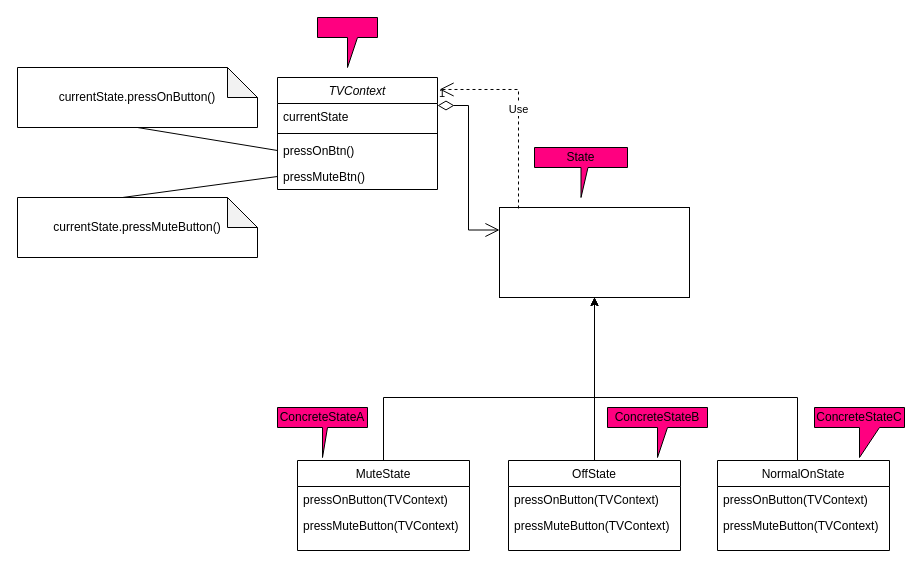
This 922x568 diagram has some shape labels left out. Each missing label, with the centre of its shape:
"<<Interface>> TVState pressOnButton(TVContext) pressMuteButton(TVContext)" belongs at point 594,252.
"Context" belongs at point 347,42.
